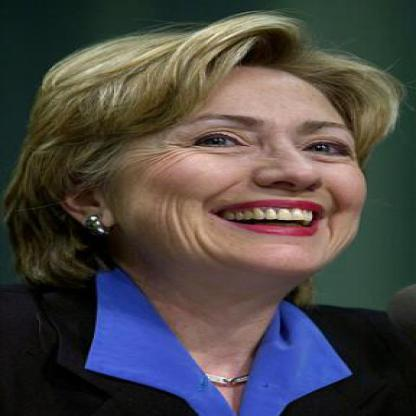face: (101, 45, 391, 285)
